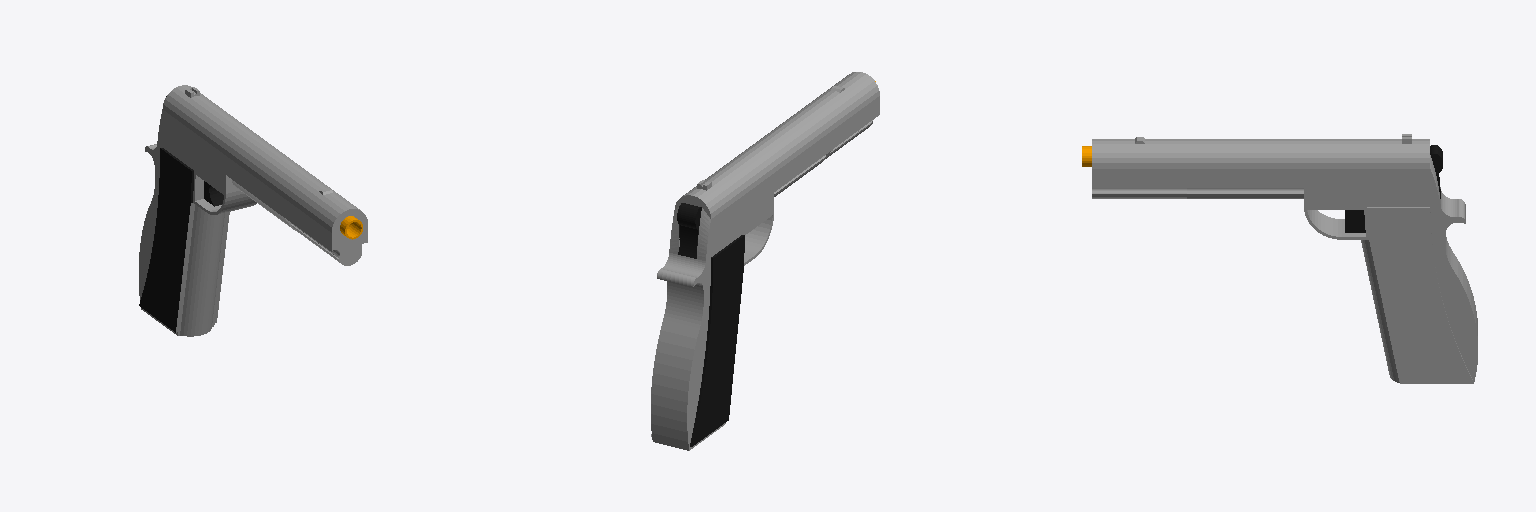
File: gun.obj
The picture shows the model from 3 angles: view 1: azimuth 30°, elevation 25°; view 2: azimuth 150°, elevation 25°; view 3: azimuth 270°, elevation 25°; orthographic projection.
Visible parts, largest first — view 1: Mesh1 Group1 Model; view 2: Mesh1 Group1 Model; view 3: Mesh1 Group1 Model.
Boxes of the visible parts, <box> form: Mesh1 Group1 Model: <box>139,85,367,336</box>; Mesh1 Group1 Model: <box>651,72,879,450</box>; Mesh1 Group1 Model: <box>1082,134,1477,383</box>.
Bounding box in the file's own units: 1.12 × 6.24 × 9.38.